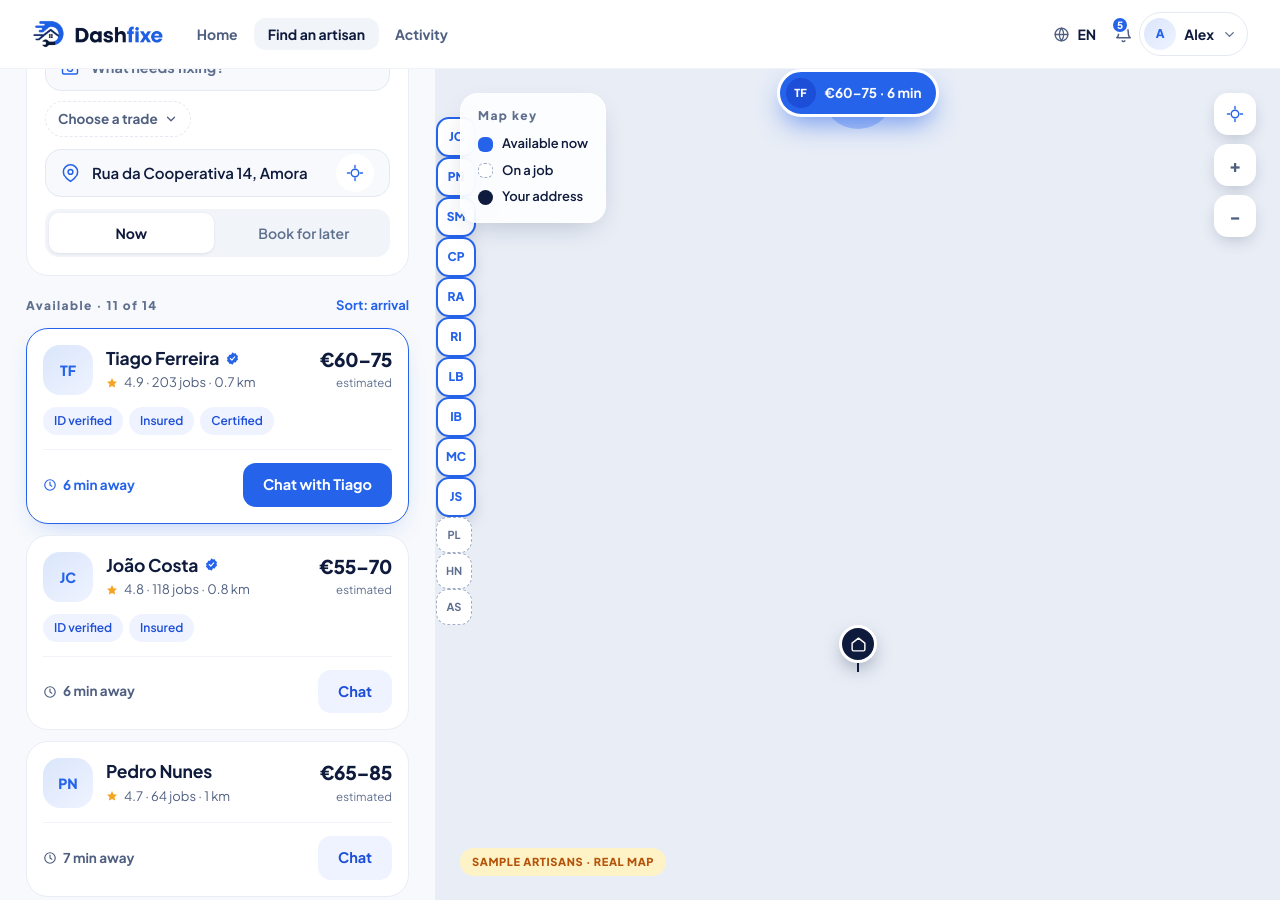
Scenario: ExplorePage › opens the chat straight away for a signed-in customer
(page scrolled)
Click the button "Chat with Tiago".
click(317, 485)  # box [243,463,392,507]
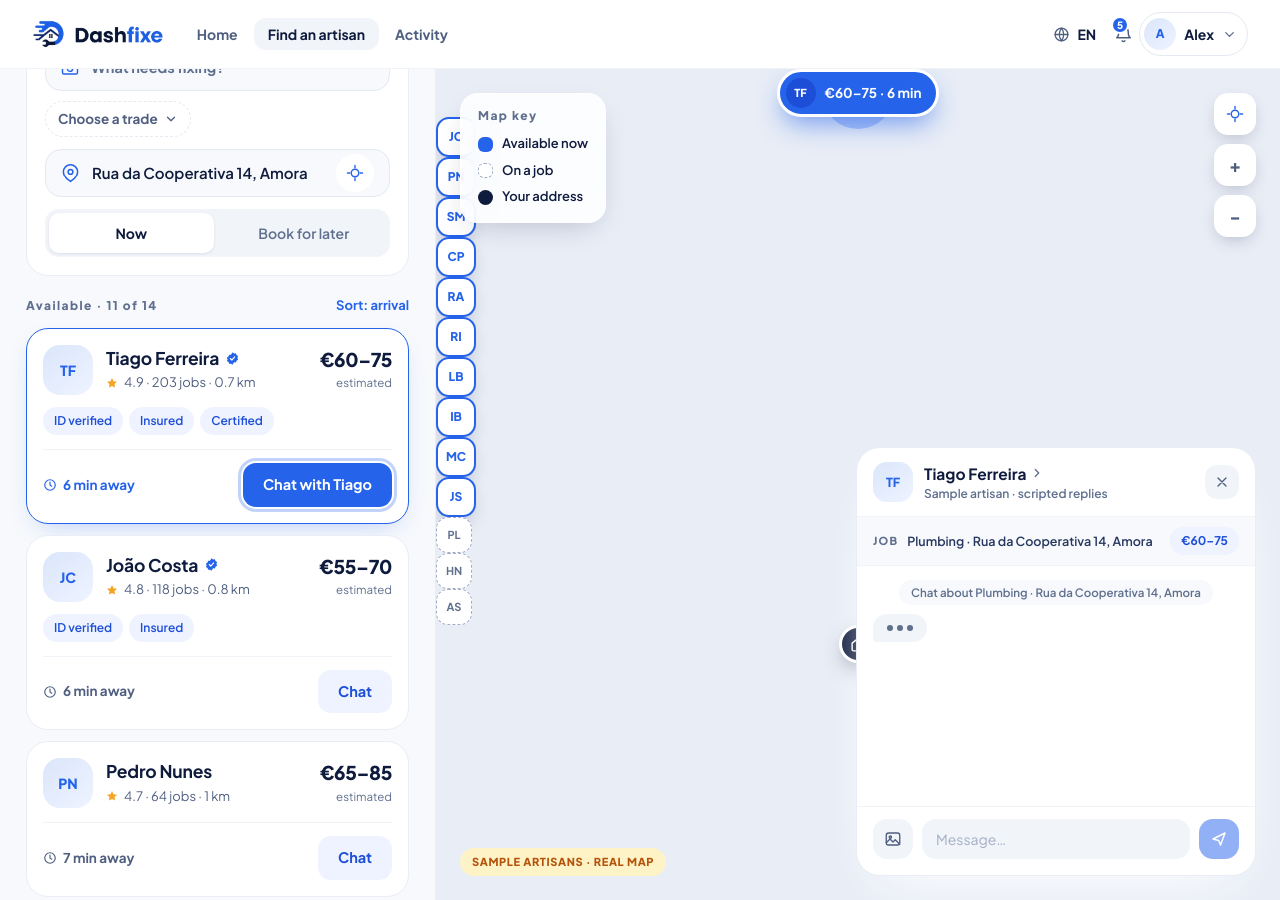
Result: the field labelled "Message" is shown at [922,819,1190,859]
